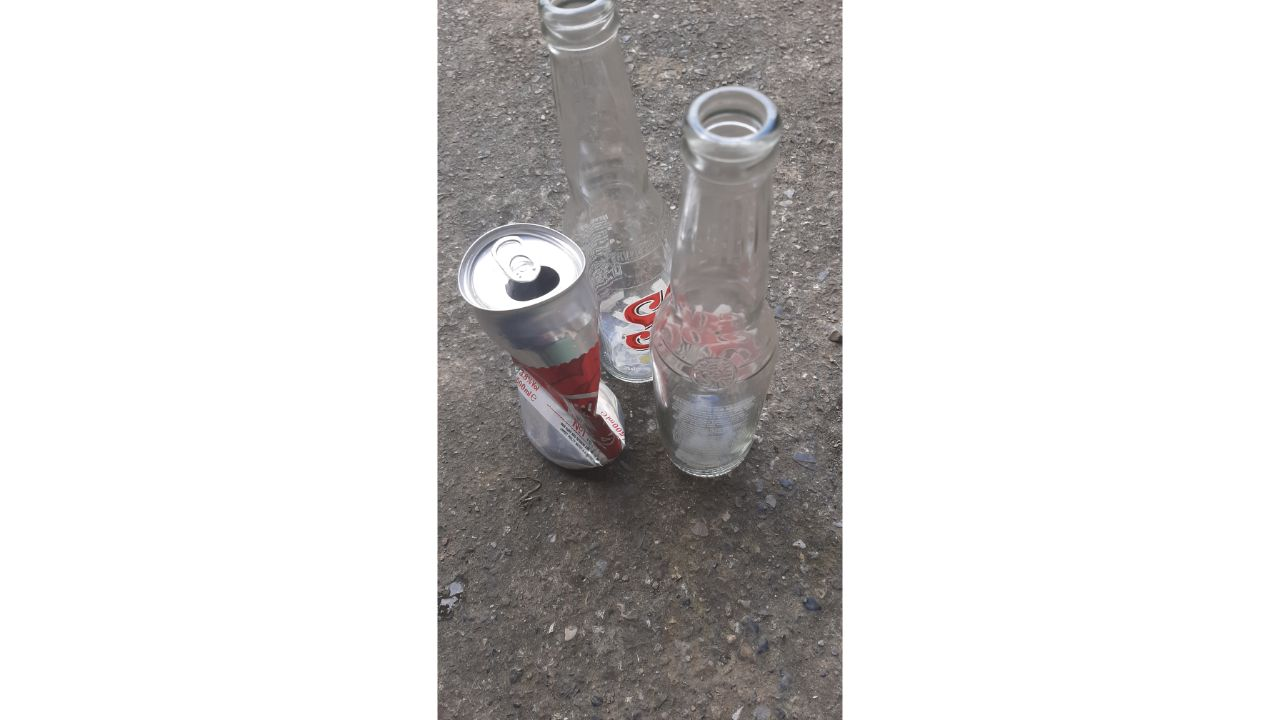Can: (448, 215, 636, 485)
